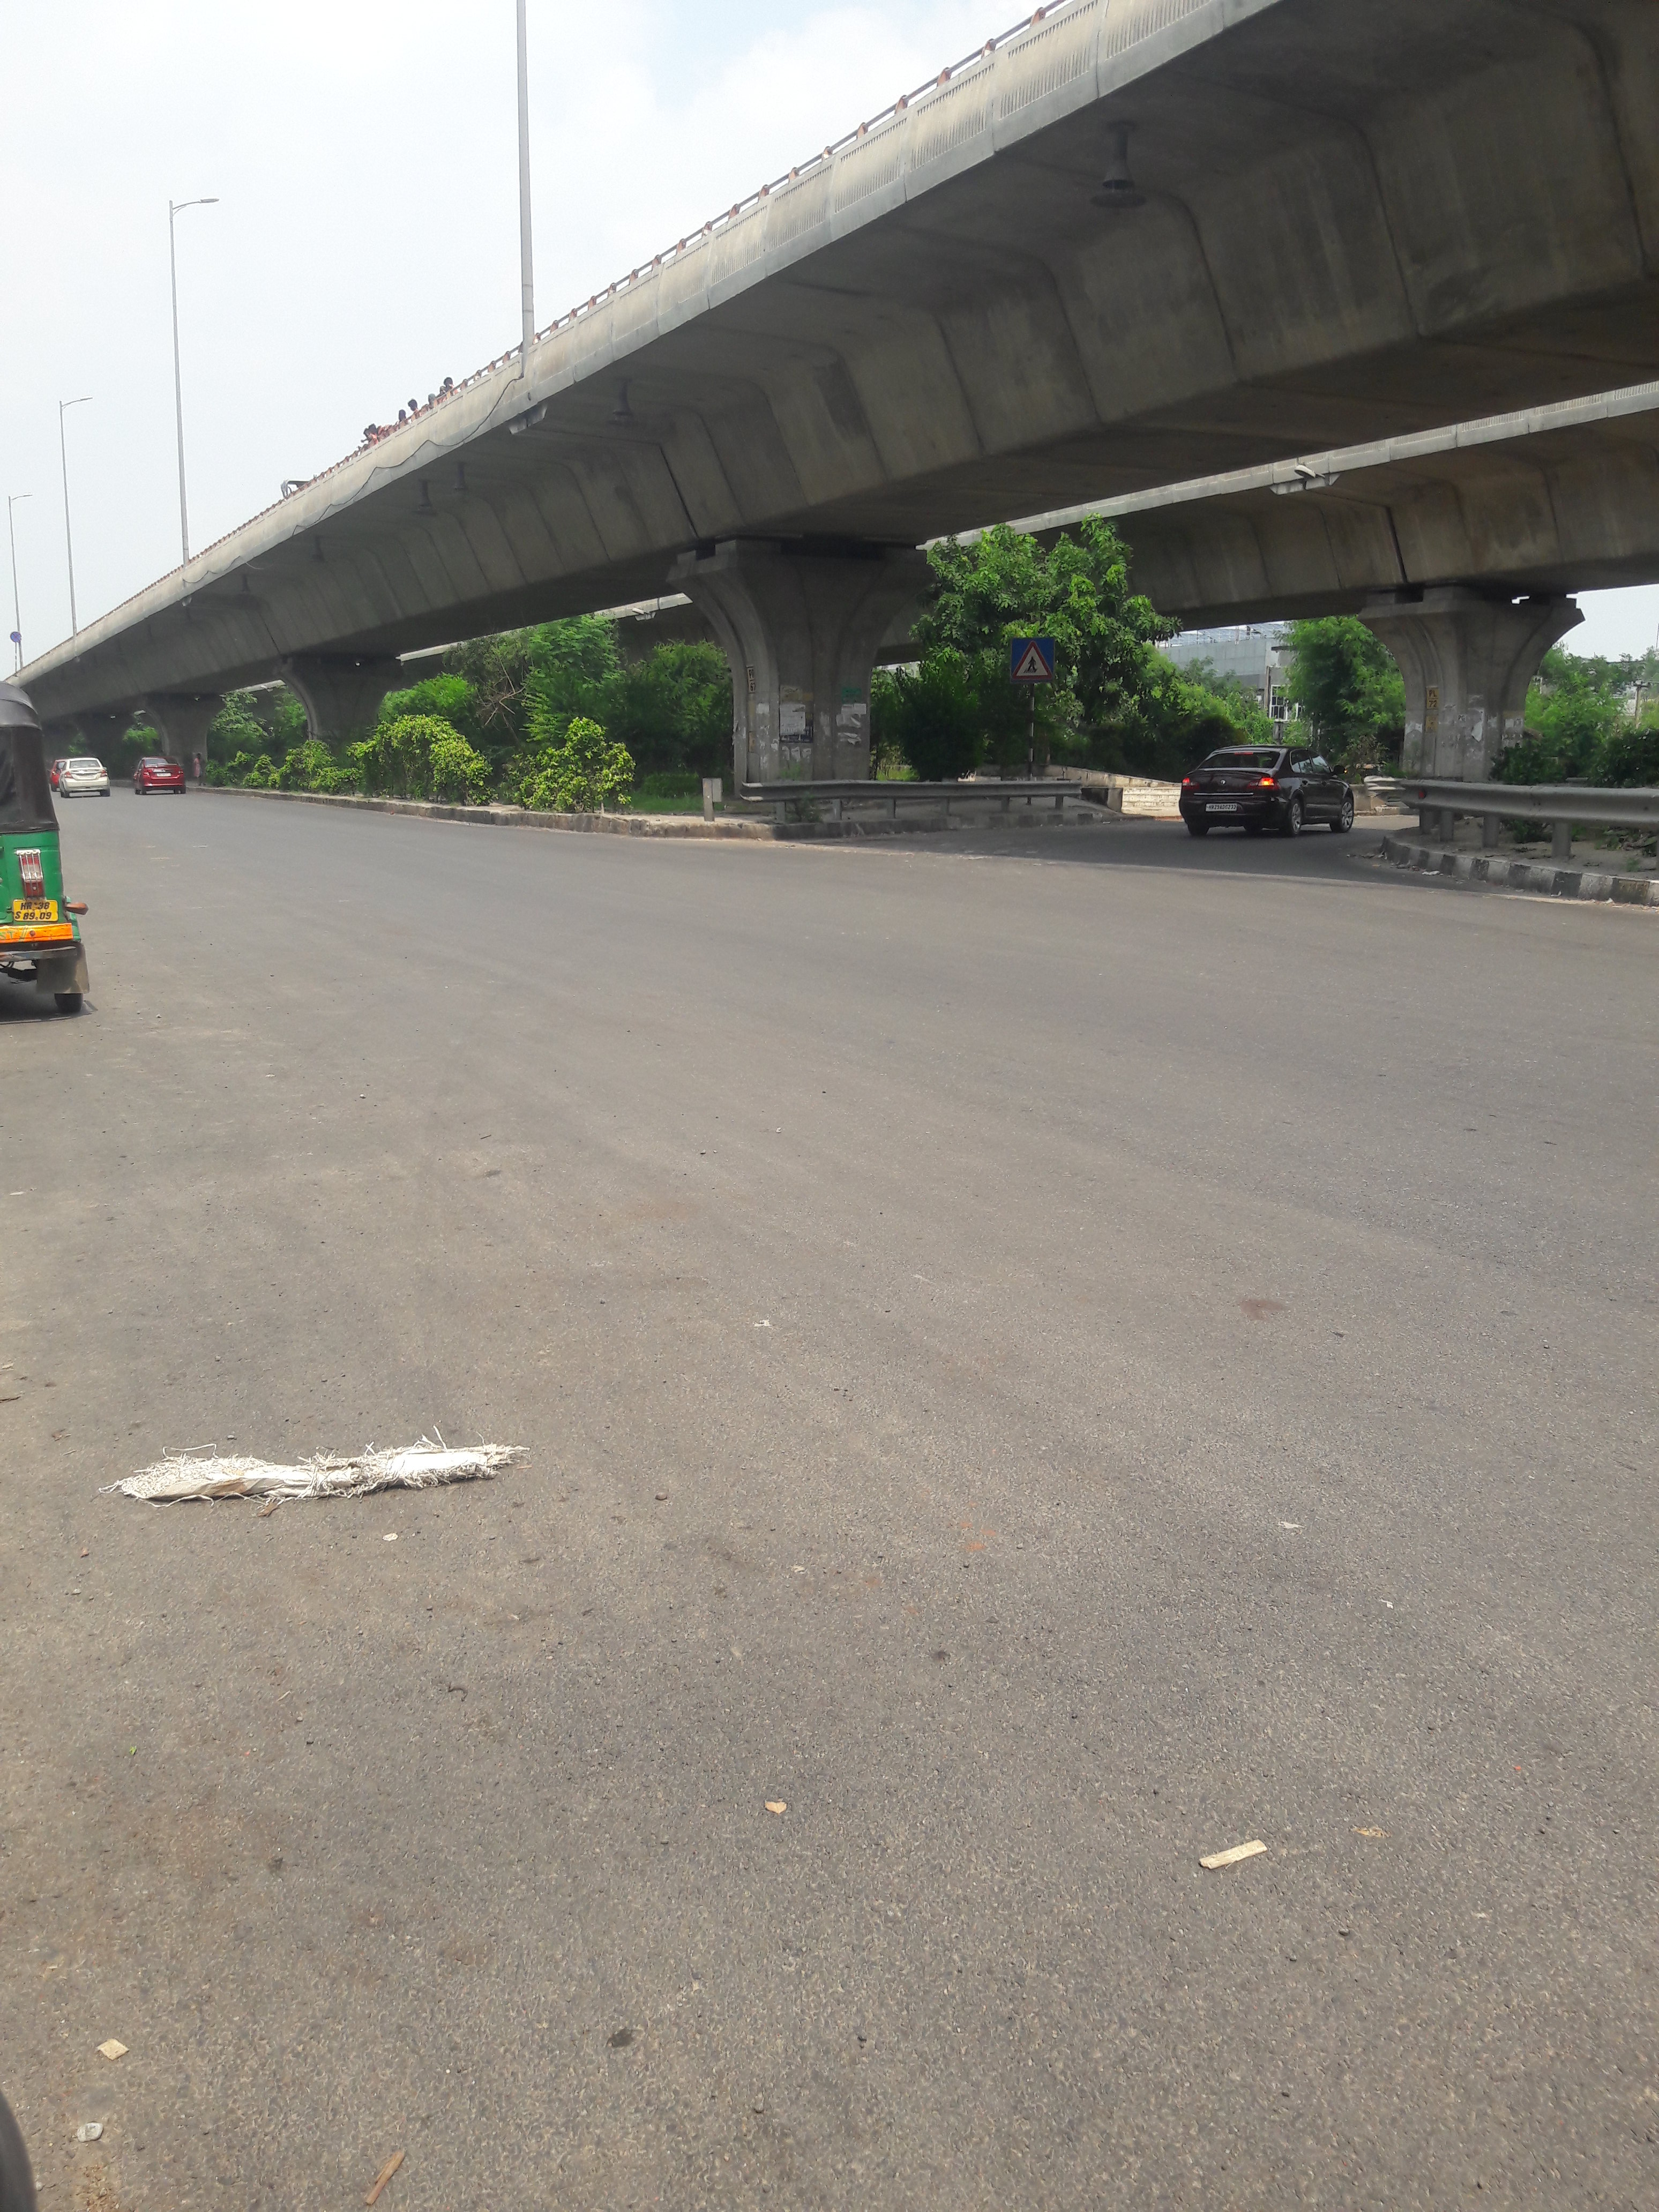traffic_sign: (1011, 636, 1058, 683)
